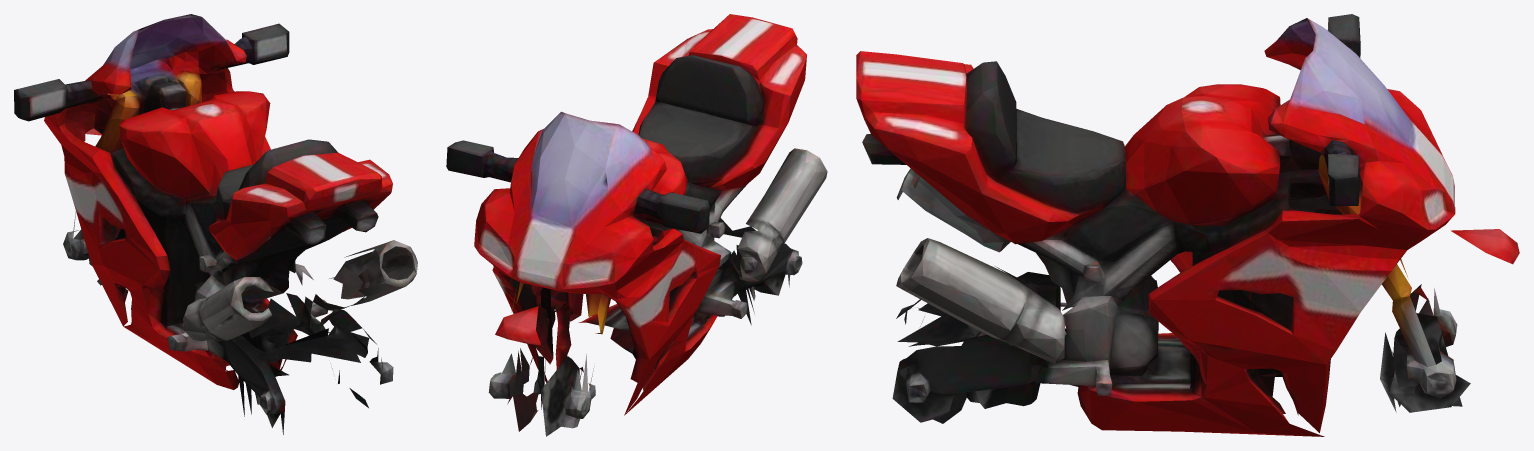
The model's file is cs_v_moto.glb.
3 renders of one model, left to right at view 1: azimuth 30°, elevation 25°; view 2: azimuth 150°, elevation 25°; view 3: azimuth 270°, elevation 25°, orthographic. The views are drawn at different scales.
Parts seen in each view (by area): view 1: v_moto; view 2: v_moto; view 3: v_moto.
Boxes of the visible parts, bbox=[...] form: v_moto: bbox=[14, 14, 417, 434]; v_moto: bbox=[446, 14, 827, 436]; v_moto: bbox=[856, 14, 1519, 436].
Size of the model in its own units: 1.27 by 1.37 by 2.16.
Materials: 1 (1 with a texture image).
